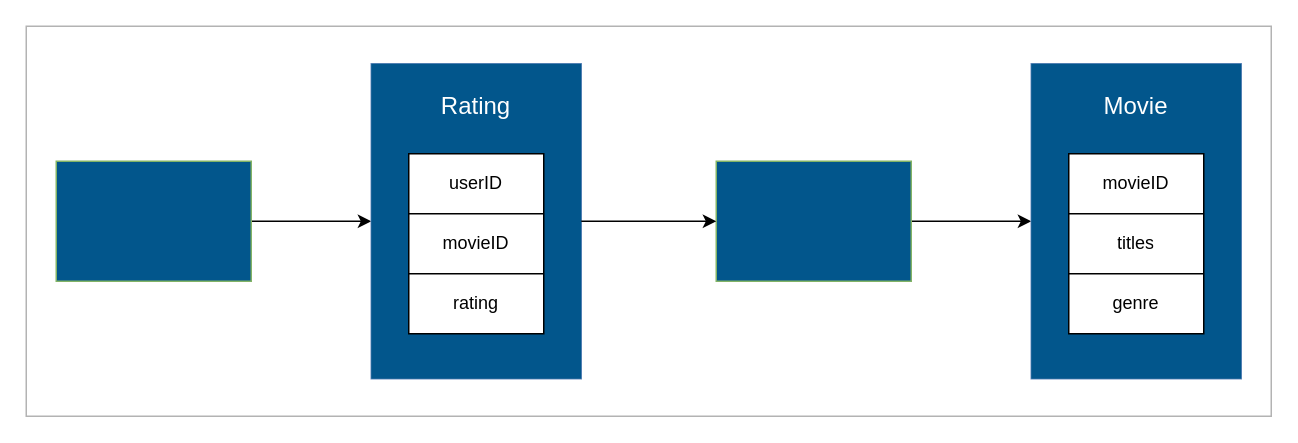
Image size: 1298x443. Some labels were removed from this diagram. The shapes that lost their labels are listed below. From the top down, each one's centre as x and y in pixels, then its label:
point 153,220: Look up rating
point 813,220: Look up title
